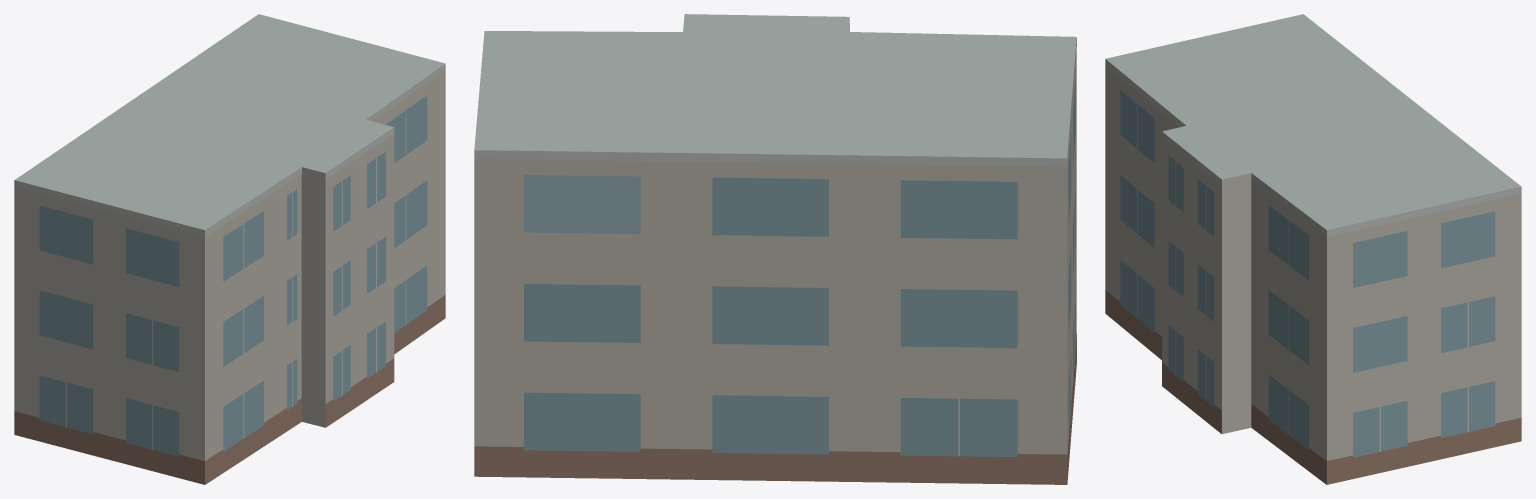
File: survey-upis-32707311.glb
The picture shows the model from 3 angles, left to right: view 1: azimuth 30°, elevation 25°; view 2: azimuth 150°, elevation 25°; view 3: azimuth 270°, elevation 25°; orthographic projection. The views are drawn at different scales.
Visible parts, largest first — view 1: survey-upis-32707311.tmp; view 2: survey-upis-32707311.tmp; view 3: survey-upis-32707311.tmp.
Boxes of the visible parts, x1,y1,x2,y2 form: survey-upis-32707311.tmp: [14, 14, 445, 484]; survey-upis-32707311.tmp: [474, 14, 1076, 484]; survey-upis-32707311.tmp: [1105, 14, 1521, 484].
Size of the model in its own units: 16.66 by 9.15 by 13.56.
